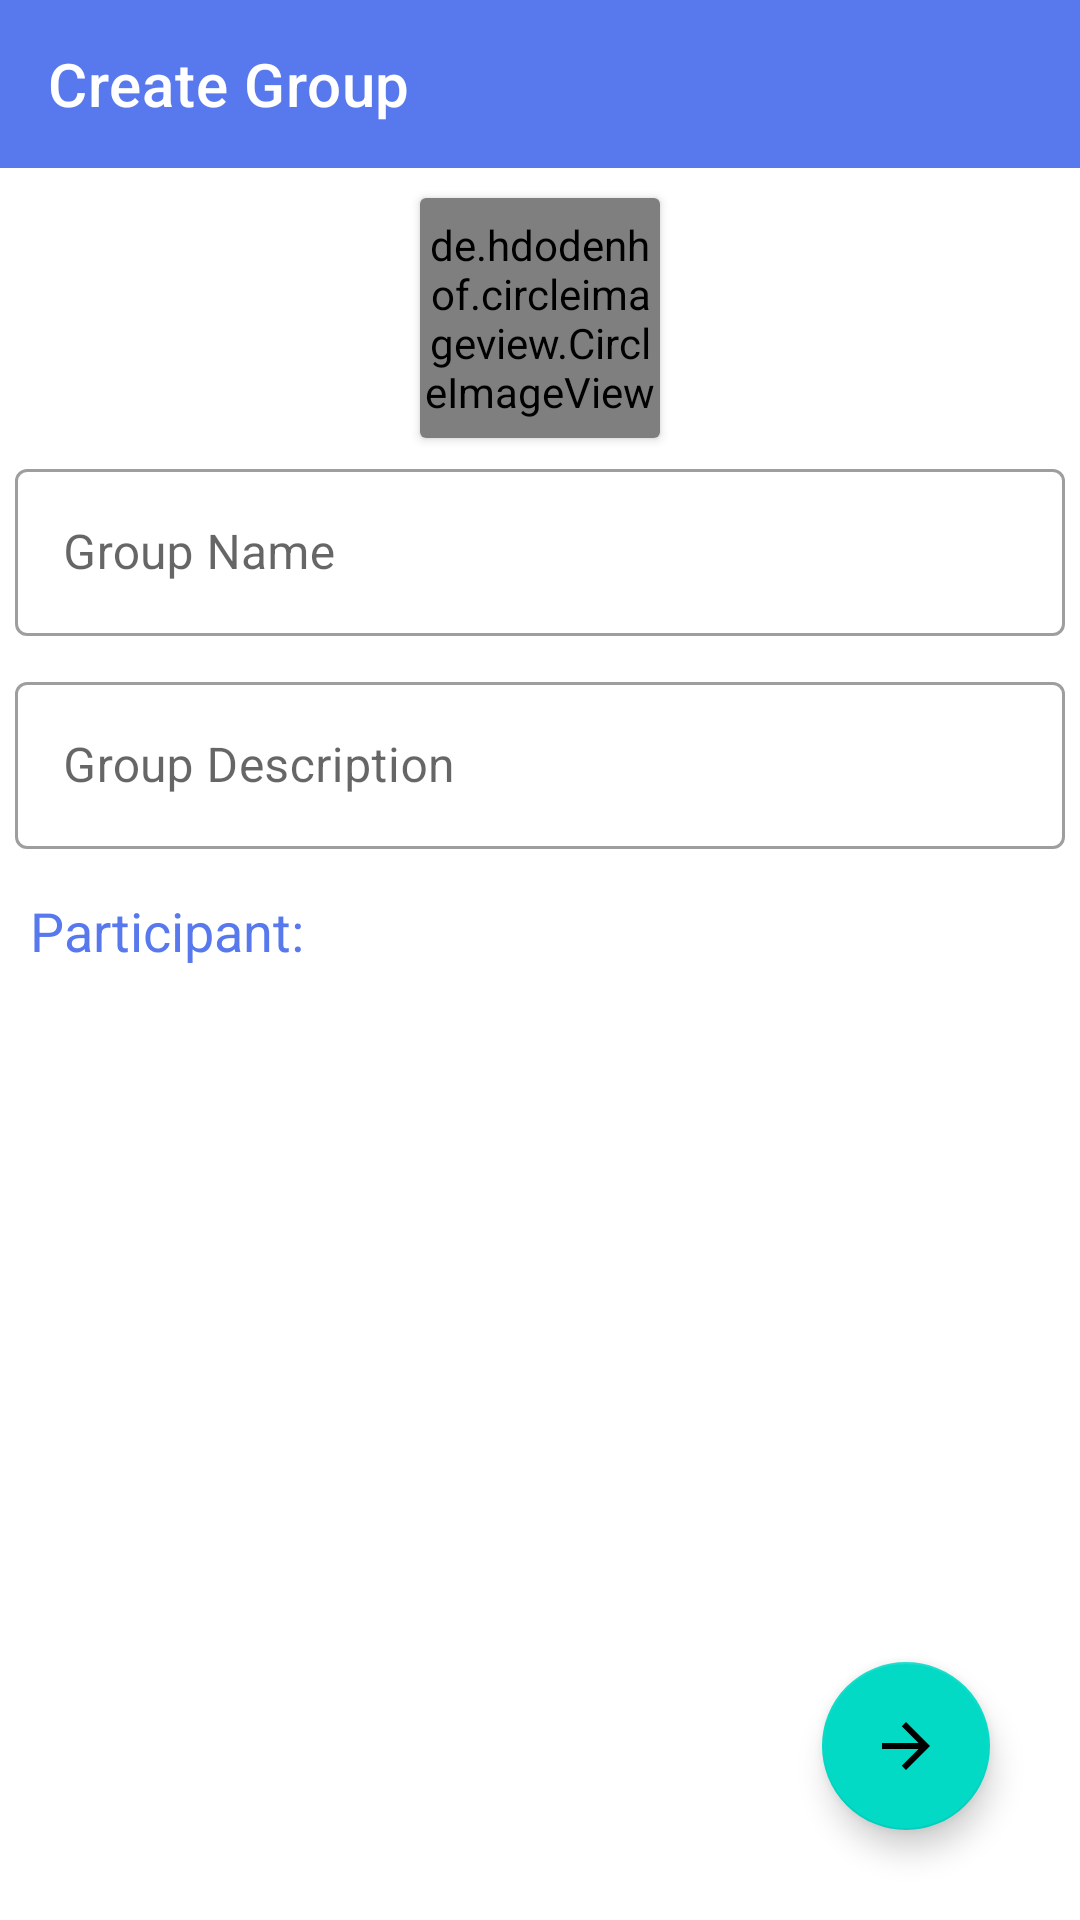

Named icons in this screenshot (1080px x 1920px) and their bounding boxes, {"left": x1, "top": y1, "right": x2, "bottom": y2}:
arrow forward: {"left": 822, "top": 1662, "right": 990, "bottom": 1830}
